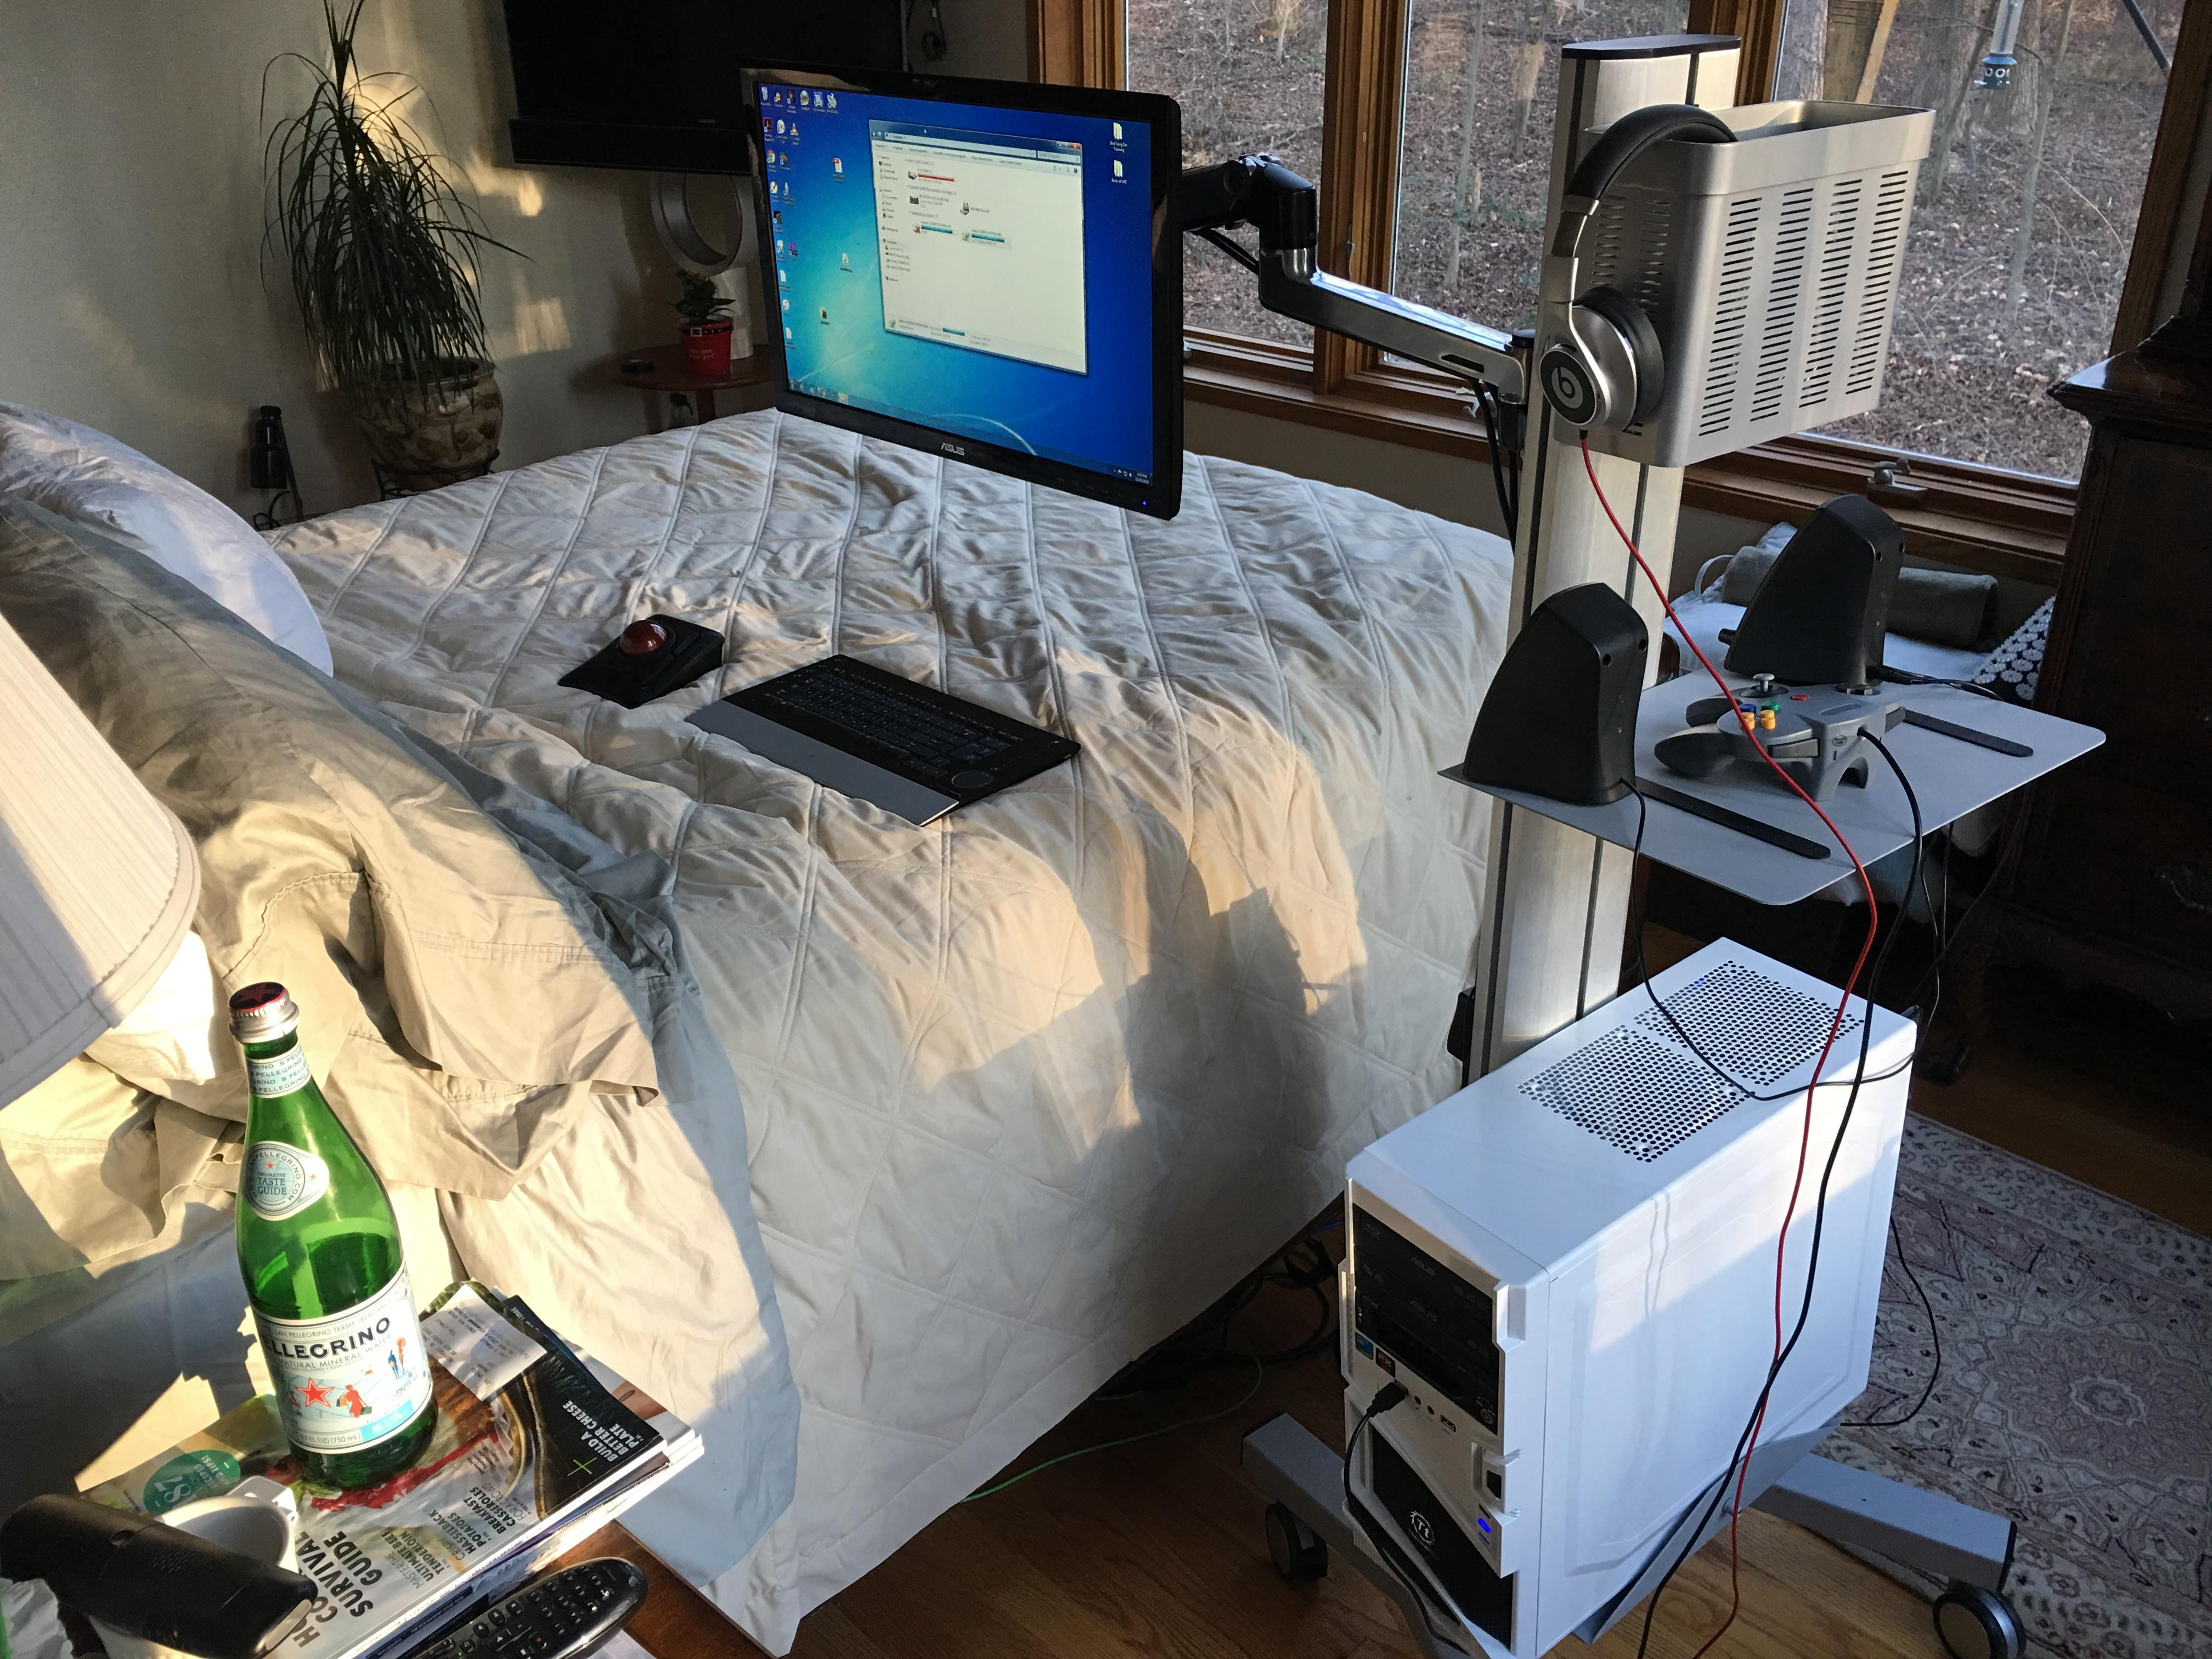Desktop (Windows): (1338, 931, 1918, 1656)
External Speakers (Generic): (1460, 580, 1653, 810), (1721, 495, 1912, 692)
Gaming Controller: (1656, 680, 1909, 807)
Headphones: (1534, 99, 1771, 434)
Keyboard (Generic): (683, 641, 1085, 838)
Monitor (Landscape): (726, 61, 1190, 523)
Monitor Arm: (1179, 153, 1550, 416)
Mouse (Ergonomic): (554, 620, 725, 708)
